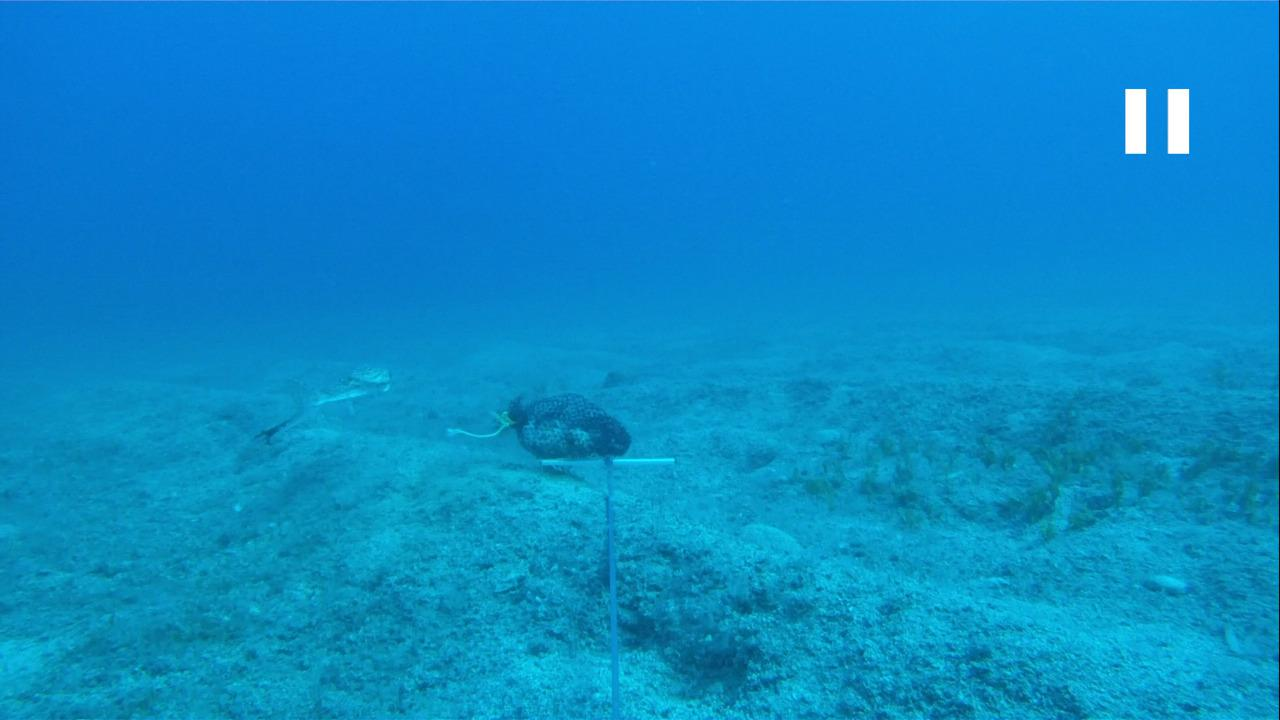dactylopterus: (234, 357, 396, 463)
